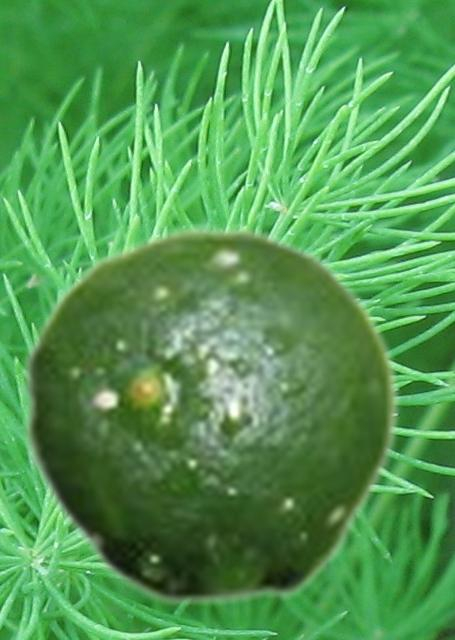calamansi: (21, 224, 401, 608)
